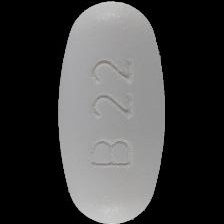68180-361: (0, 0, 224, 224)
